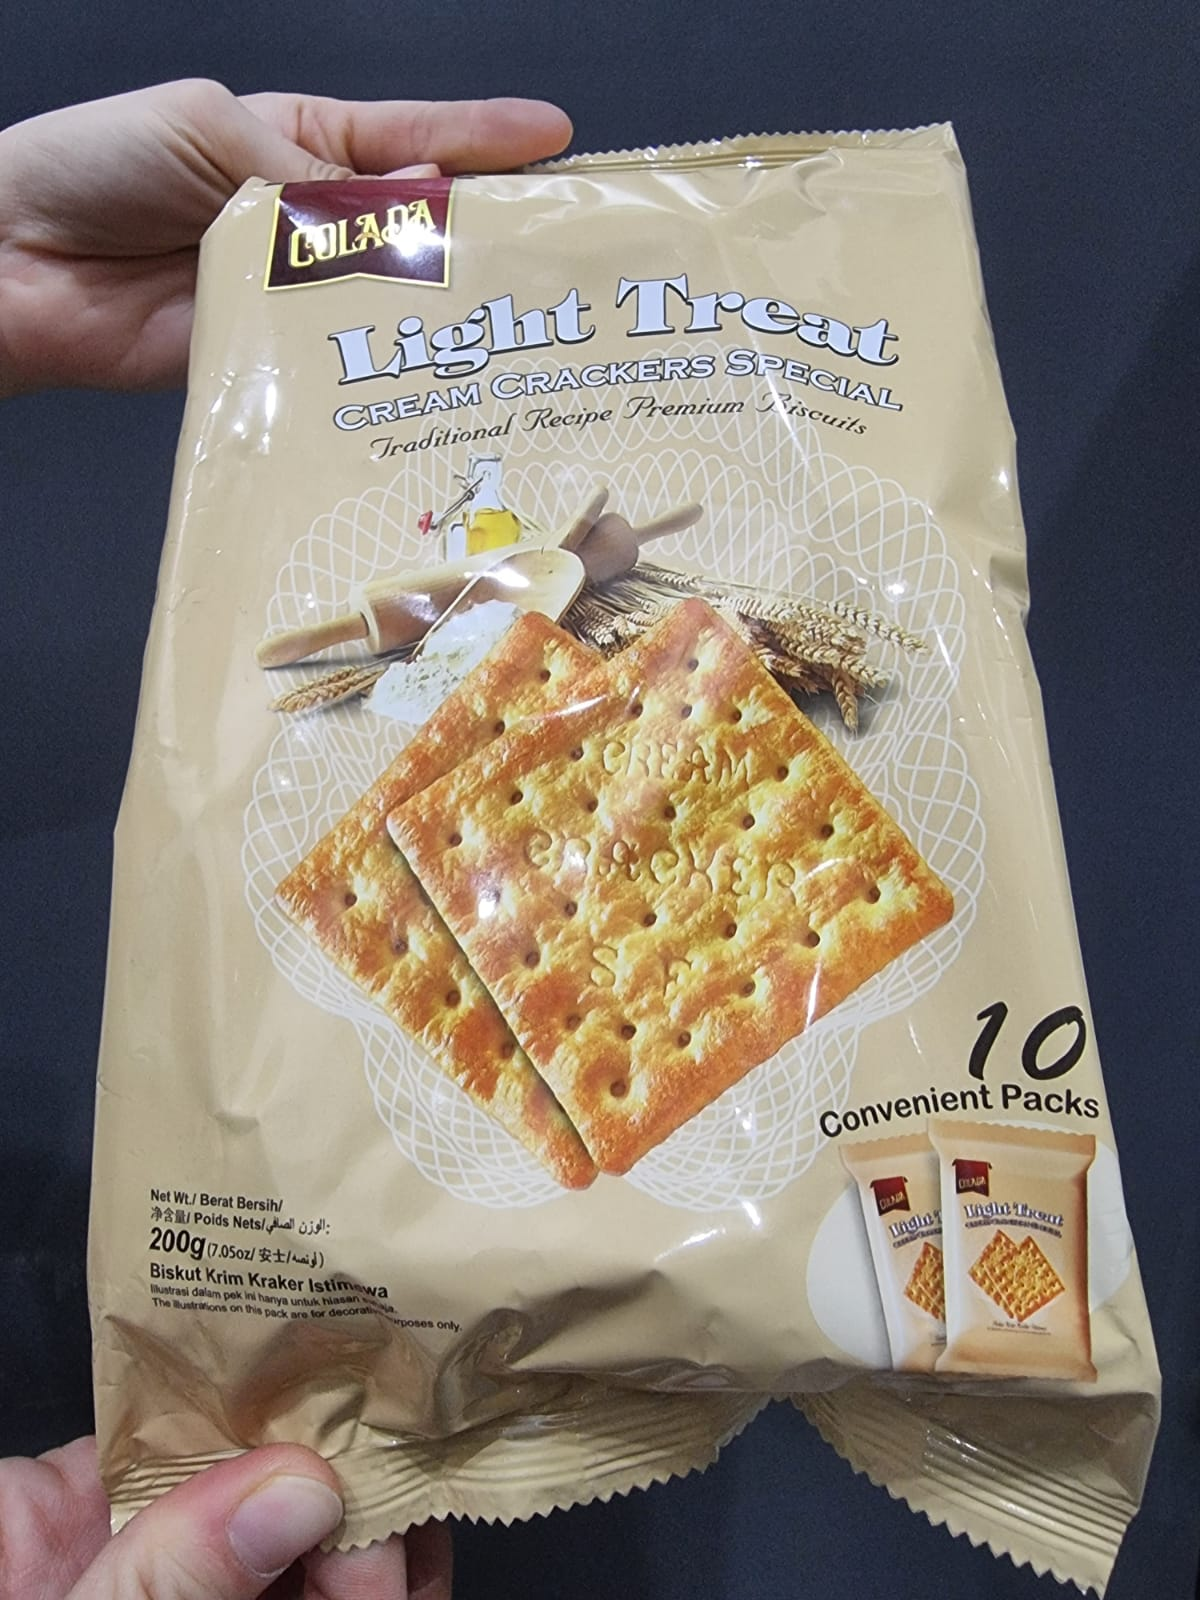Biscuits: (245, 184, 1083, 1482)
